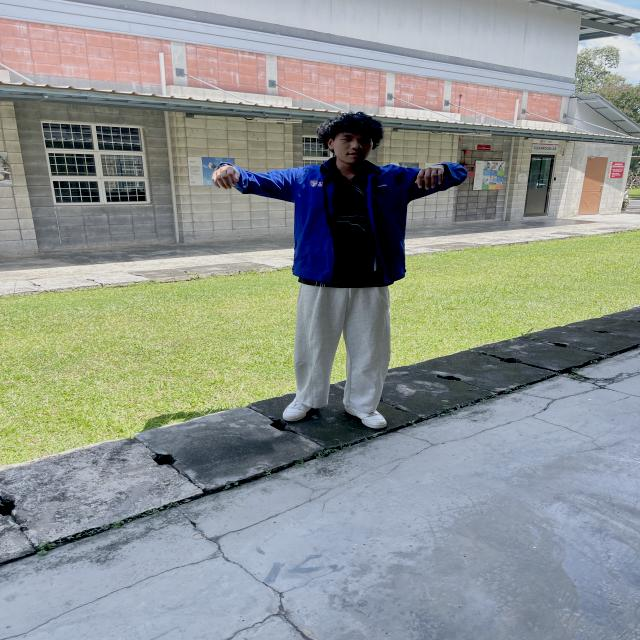person_with_labcoat: (214, 112, 464, 428)
